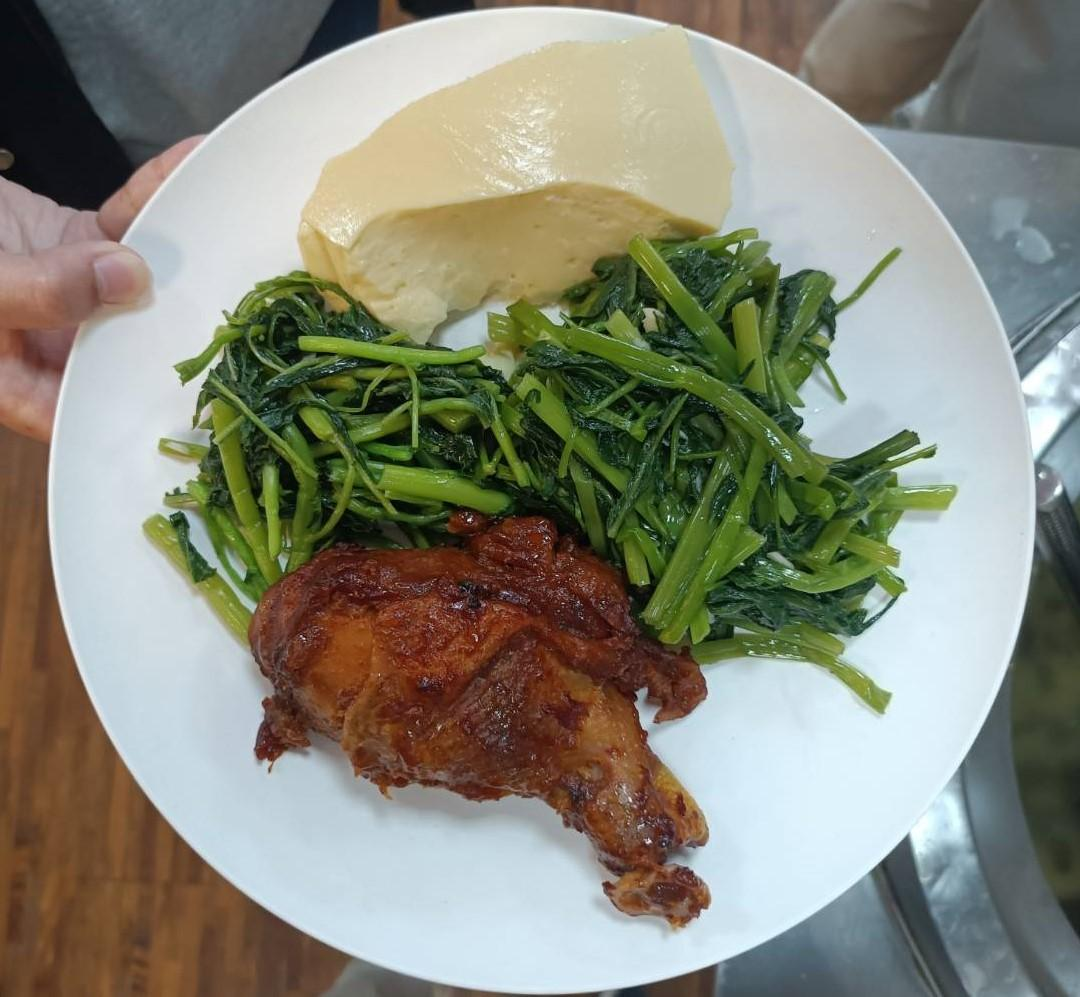big fried chicken leg: (46, 0, 1043, 997)
braised fish fillet: (523, 230, 918, 661), (285, 19, 739, 335), (157, 268, 506, 599)
braised pork: (246, 514, 730, 921)
